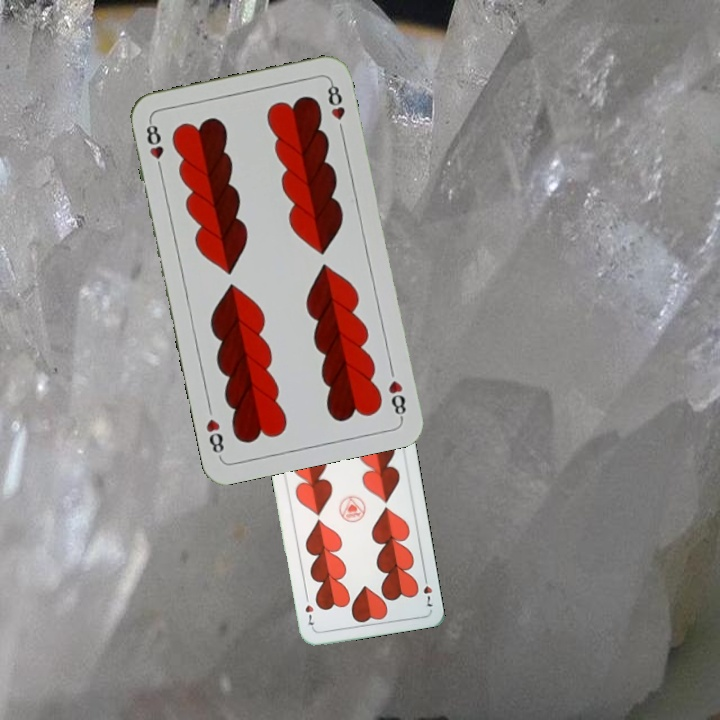H7: (419, 570, 435, 610)
H8: (142, 117, 166, 176), (384, 376, 409, 421)
